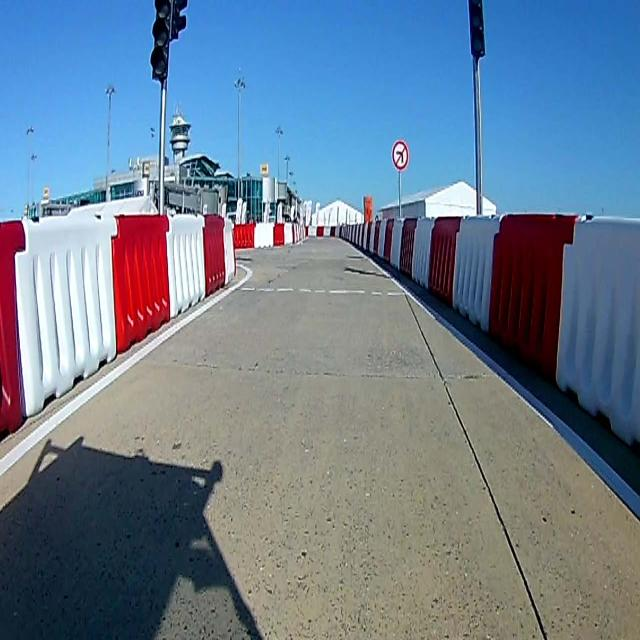soladonulmez: (392, 140, 410, 170)
